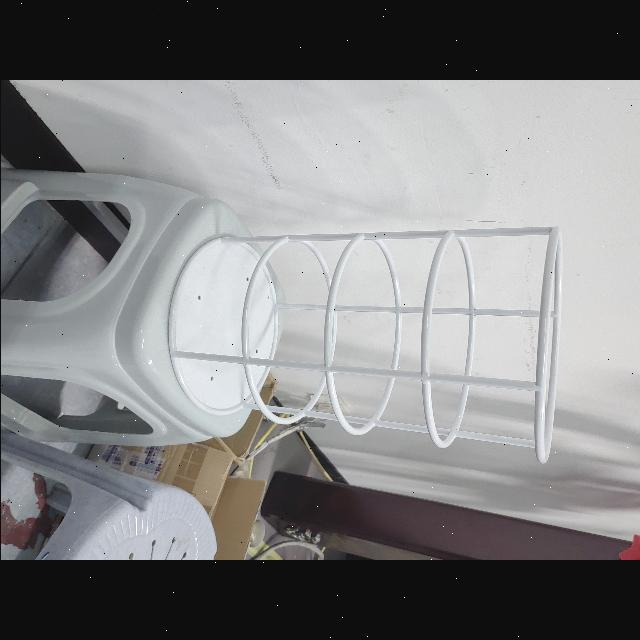S: (160, 220, 564, 470)
